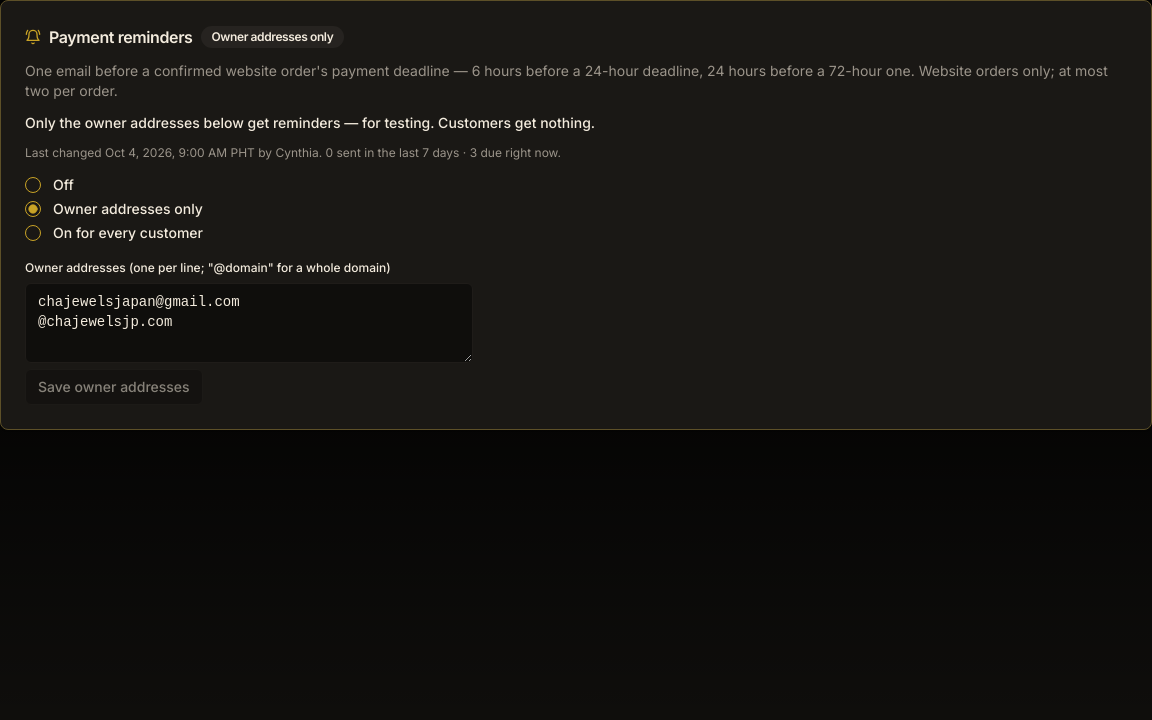
Scenario: Settings → Payment reminders card › turning ON says how many orders are due now
Click the radio button named "On for every customer" next to "On for every customer". click: (33, 233)
box: [25,225,41,241]
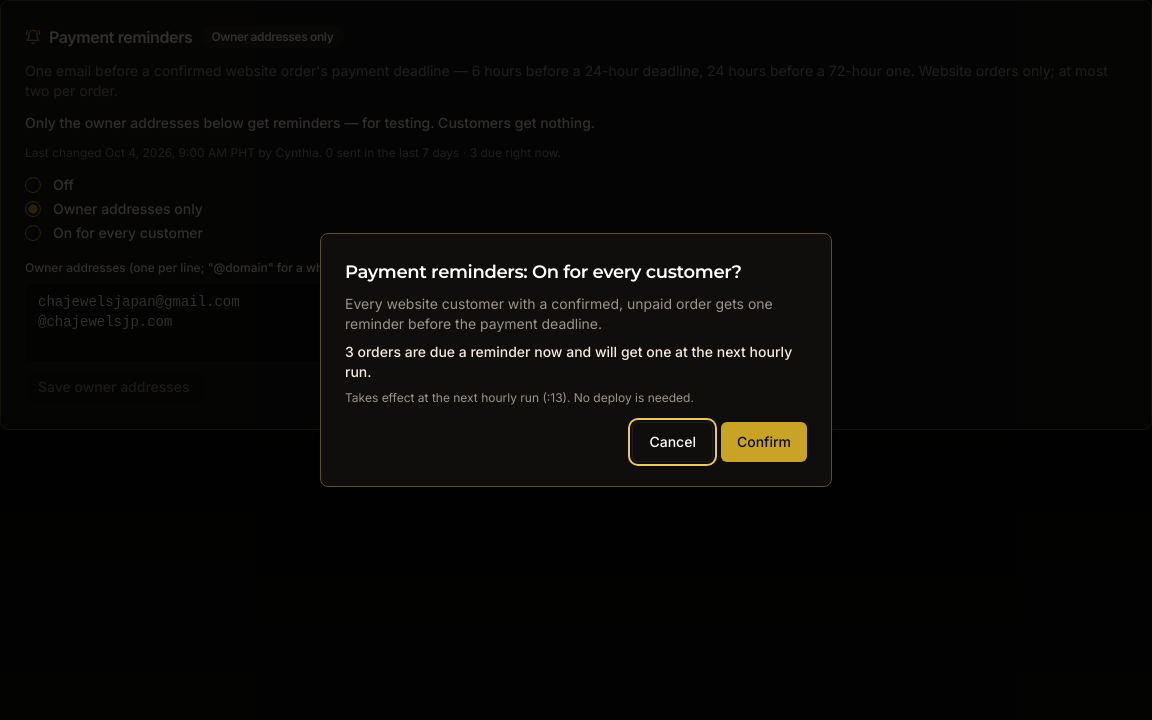
Check: the text with test id "payment-reminders-due" shows "3 orders are due a reminder now", box [345,343,792,380]
